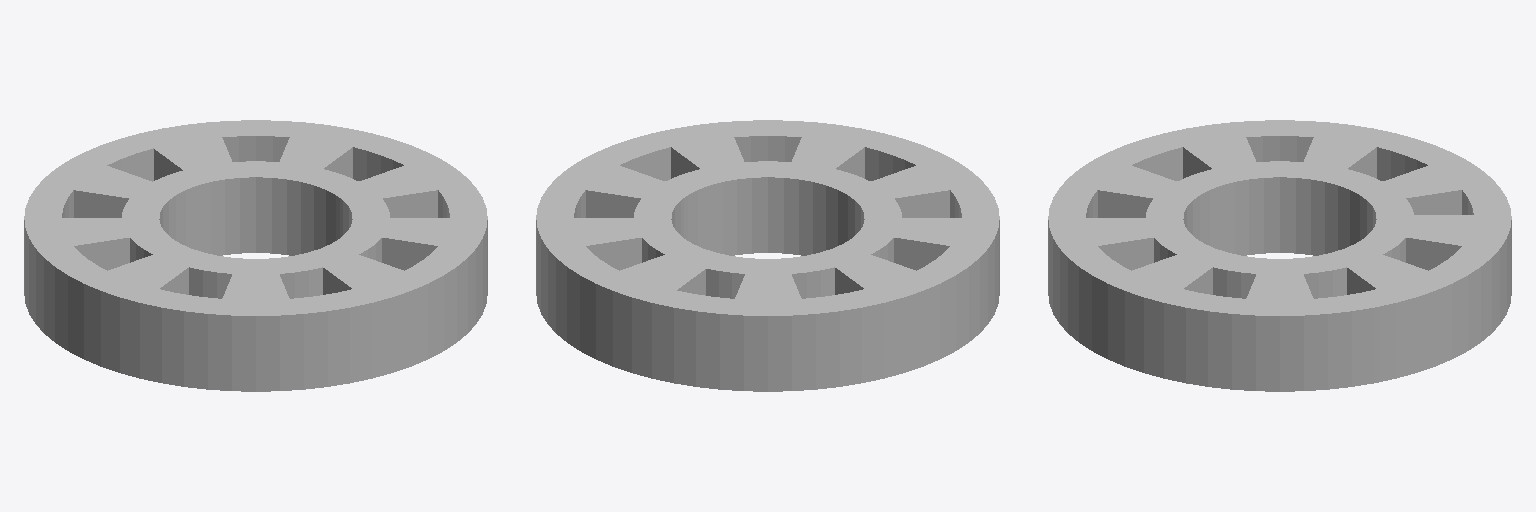
The model's file is N4-003_pc_gfx.obj.
3 views of the same model, side by side, from view 1: azimuth 30°, elevation 25°; view 2: azimuth 150°, elevation 25°; view 3: azimuth 270°, elevation 25° (orthographic).
Parts seen in each view (by area): view 1: N4-003; view 2: N4-003; view 3: N4-003.
Part boxes in pixels (bbox=[...]): N4-003: bbox=[24, 120, 487, 391]; N4-003: bbox=[536, 120, 999, 391]; N4-003: bbox=[1048, 120, 1511, 391].
Size of the model in its own units: 0.4075 by 0.0735 by 0.4075.